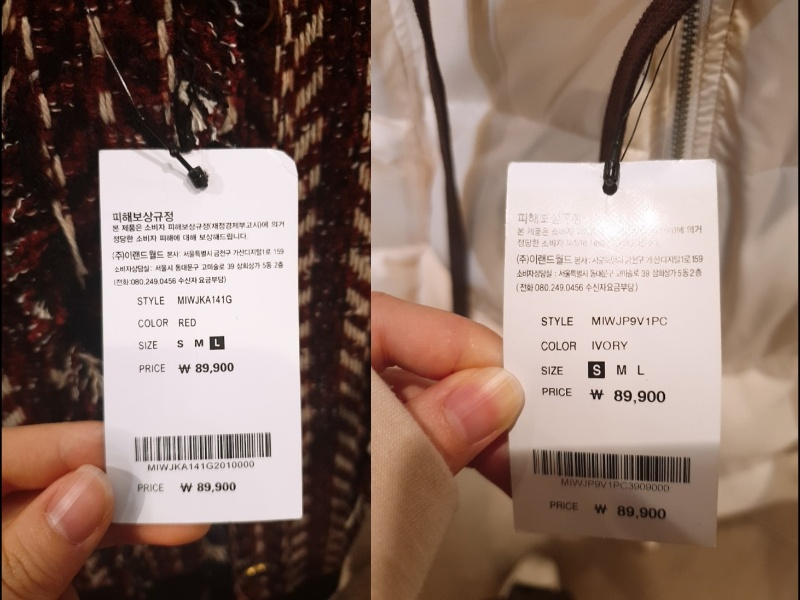tag: (503, 158, 722, 552), (93, 148, 304, 523)
text: (513, 253, 710, 293), (109, 246, 288, 284), (109, 220, 286, 241), (559, 476, 673, 496), (591, 501, 671, 525), (588, 384, 667, 406), (588, 311, 670, 329), (146, 459, 256, 472), (176, 361, 238, 377), (110, 210, 176, 225), (175, 293, 236, 309), (176, 480, 242, 494), (587, 337, 629, 354), (537, 313, 576, 331), (546, 496, 581, 516), (537, 337, 578, 354), (538, 384, 575, 401), (136, 359, 169, 376), (133, 293, 167, 309), (135, 316, 171, 331), (132, 482, 167, 497), (536, 362, 567, 378), (135, 337, 162, 353), (176, 316, 201, 330)
